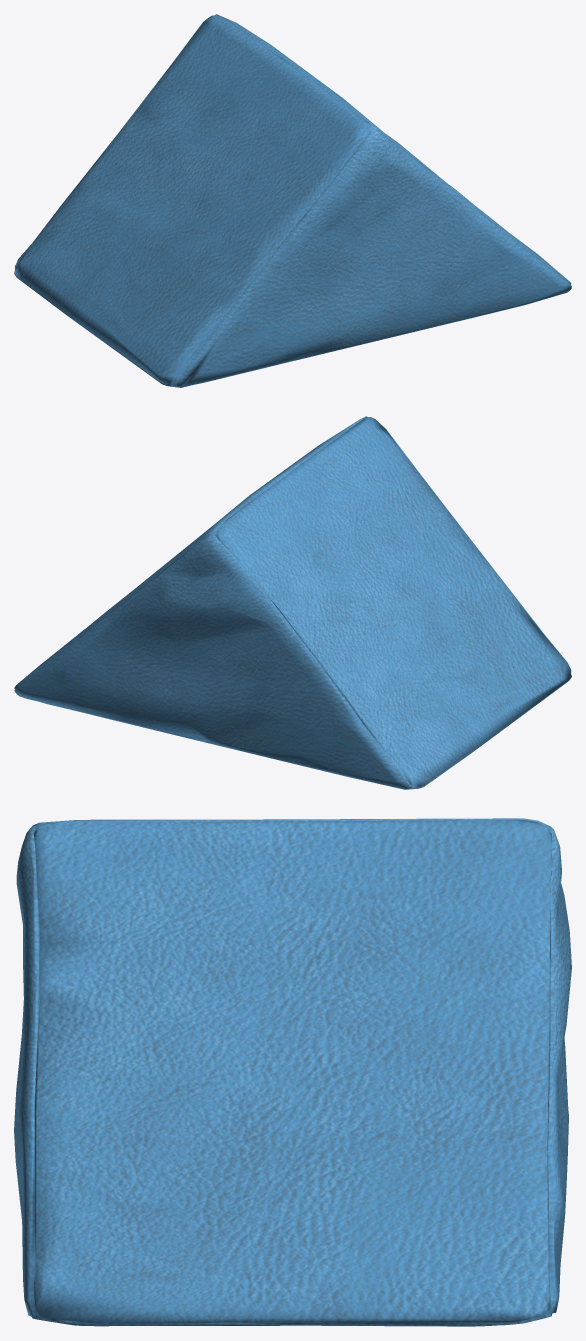
Rendered from Triangle.FBX.
3 renders of one model, top to bottom at view 1: azimuth 30°, elevation 25°; view 2: azimuth 150°, elevation 25°; view 3: azimuth 270°, elevation 25°, orthographic. The views are drawn at different scales.
Visible parts, largest first — view 1: triangle; view 2: triangle; view 3: triangle.
Boxes of the visible parts, left/top/right/bottom form: triangle: left=14, top=14, right=571, bottom=387; triangle: left=14, top=416, right=571, bottom=789; triangle: left=14, top=818, right=571, bottom=1326.
Bounding box in the file's own units: 16.44 × 8.38 × 11.98.
Materials: 1 (1 with a texture image).
